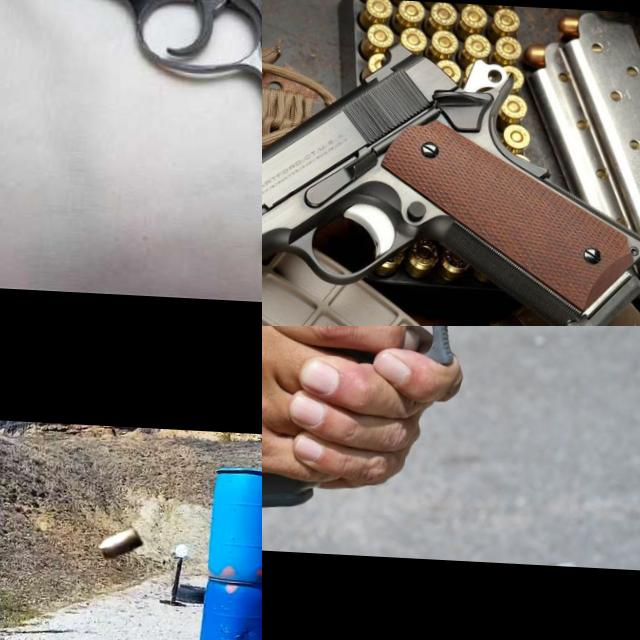handgun: (262, 21, 640, 326), (0, 0, 262, 275), (262, 326, 602, 422), (0, 565, 39, 640)
